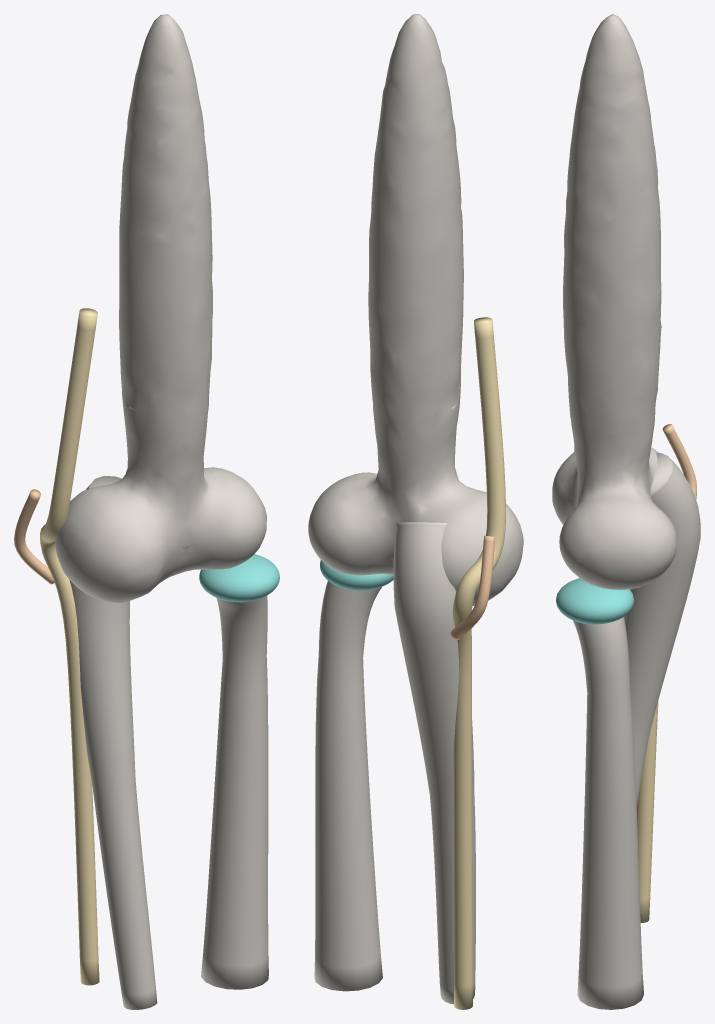
Rendered from elbow-ulnar.glb.
The picture shows the model from 3 angles, left to right: view 1: azimuth 30°, elevation 25°; view 2: azimuth 150°, elevation 25°; view 3: azimuth 270°, elevation 25°; orthographic projection. The views are drawn at different scales.
Parts seen in each view (by area): view 1: static #eee5d3, static #edc877, static #49bdb4, static #f2a066; view 2: static #eee5d3, static #edc877, static #f2a066, static #49bdb4; view 3: static #eee5d3, static #edc877, static #49bdb4, static #f2a066.
Boxes of the visible parts, x1,y1,x2,y2 form: static #eee5d3: (55, 14, 268, 1009); static #edc877: (40, 308, 99, 985); static #49bdb4: (199, 554, 279, 602); static #f2a066: (14, 489, 54, 584); static #eee5d3: (308, 14, 523, 1004); static #edc877: (452, 317, 505, 1009); static #f2a066: (450, 535, 495, 639); static #49bdb4: (320, 560, 393, 590); static #eee5d3: (552, 14, 700, 1009); static #edc877: (636, 701, 658, 922); static #49bdb4: (556, 578, 634, 624); static #f2a066: (662, 424, 696, 499).
Bounding box in the file's own units: 0.1206 × 0.5333 × 0.0757.
